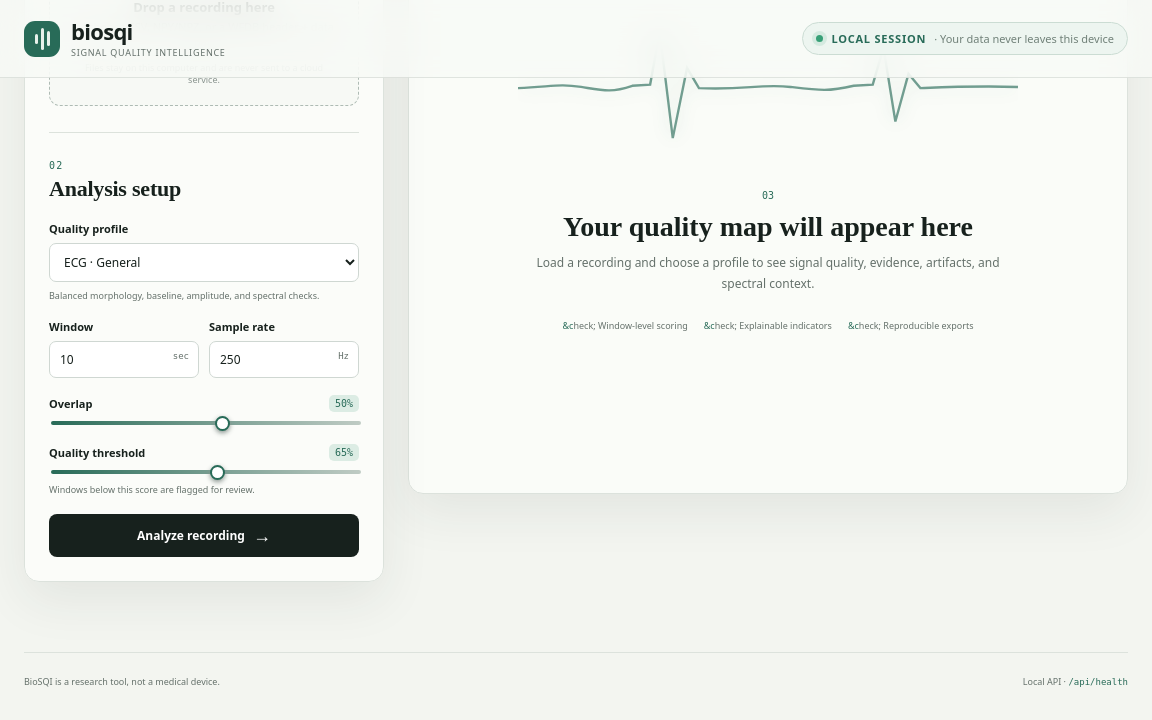
Test: BioSQI dashboard › shows a useful validation error when no file is selected
(page scrolled)
Click the button "Analyze recording" at [204, 535], box [49,514,359,557]
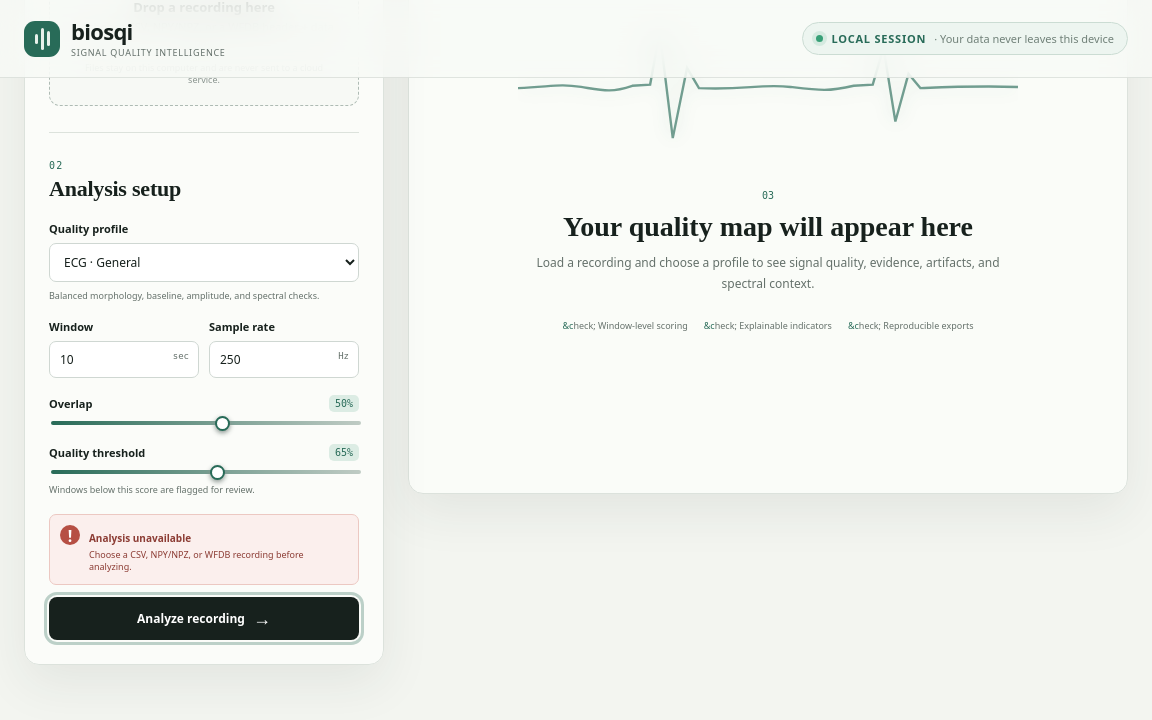
Check: the message shows "Choose a CSV", box [89,548,304,573]
